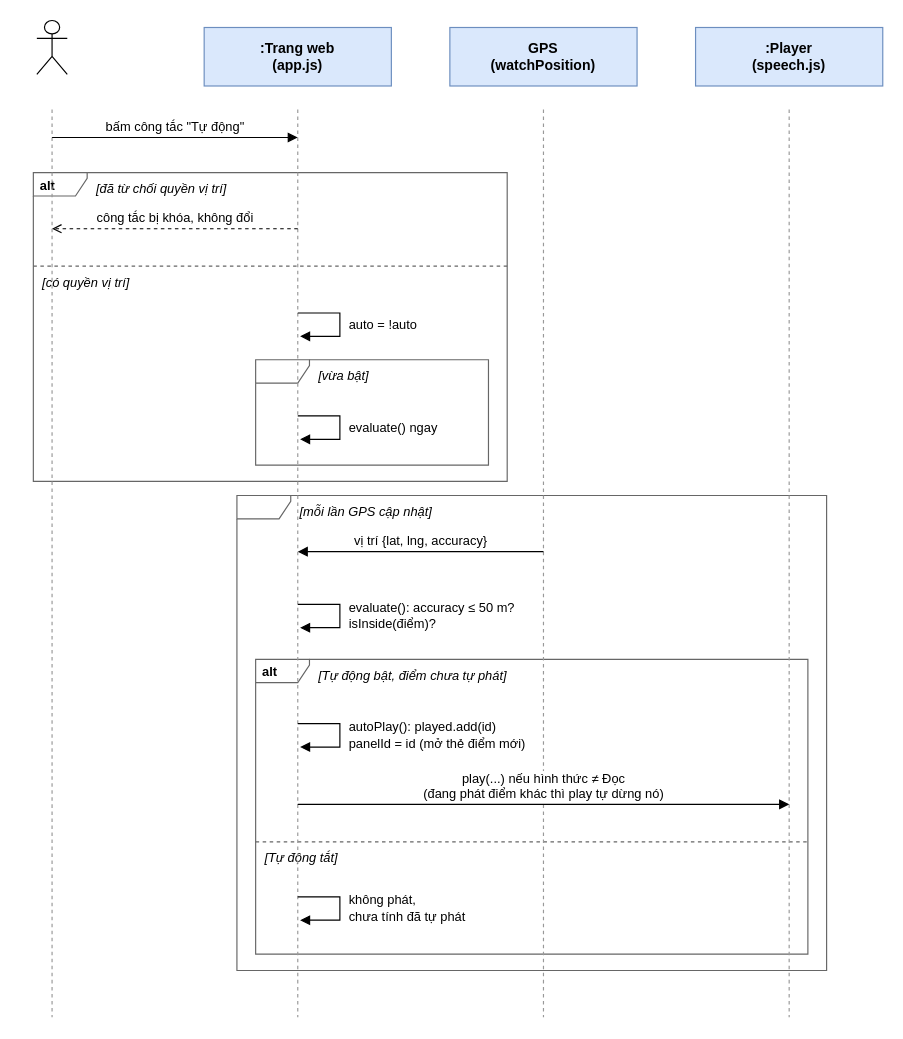
The diagram is 903 pixels wide and 1039 high, and some of its shapes have lost their labels. Here are the shapes that lost their labels. From the top down, the box of each, then its label:
(36, 19, 67, 74): Du khách
(254, 359, 488, 465): opt
(236, 494, 827, 971): loop
